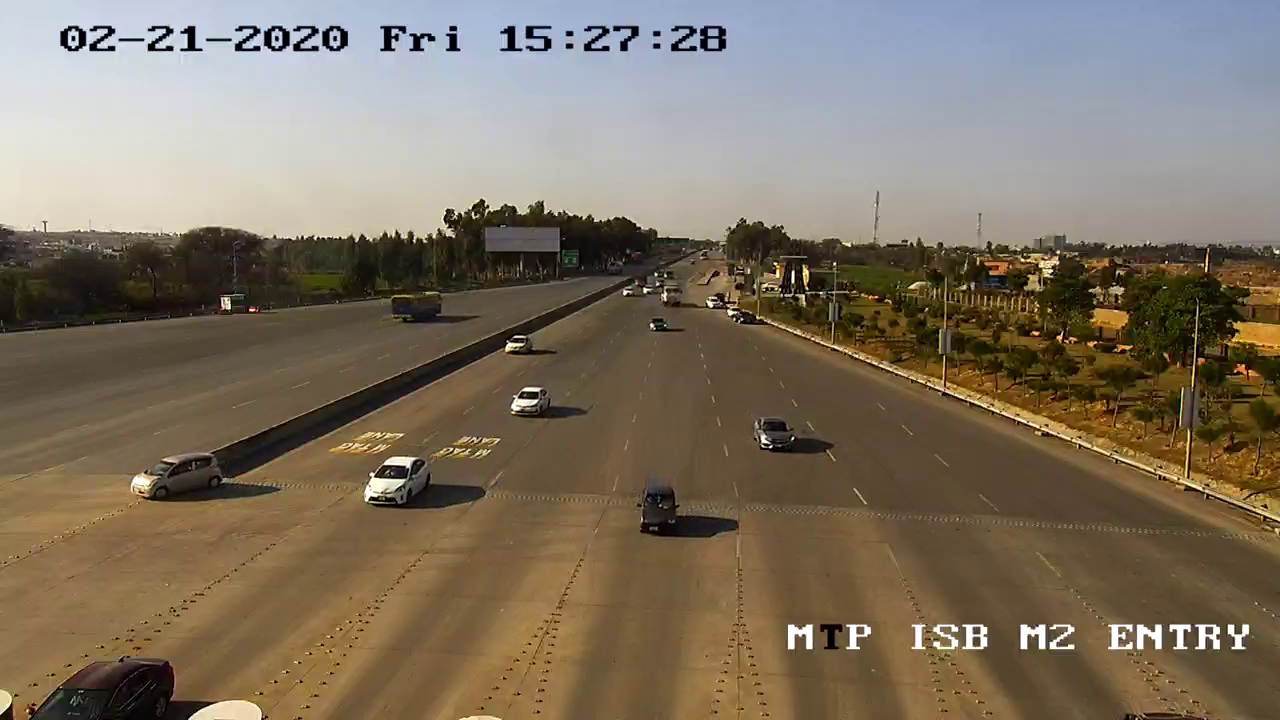f1: (355, 446, 437, 520), (626, 472, 688, 543), (742, 409, 805, 464)
